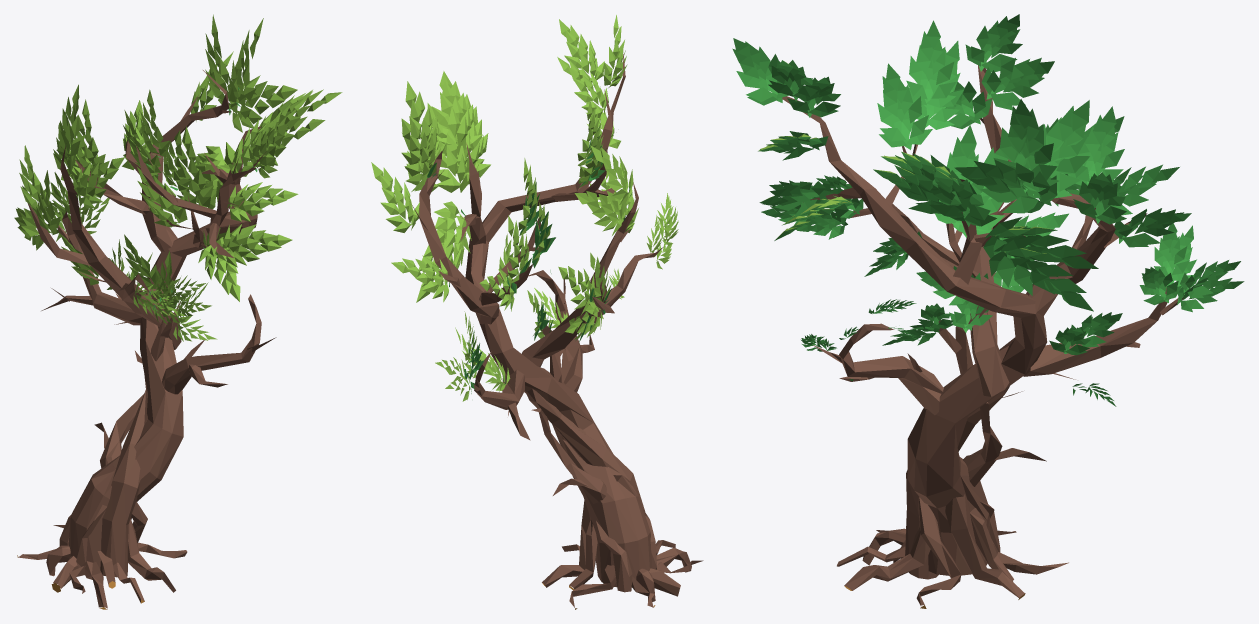
File: big-tree.glb
3 renders of one model, left to right at view 1: azimuth 30°, elevation 25°; view 2: azimuth 150°, elevation 25°; view 3: azimuth 270°, elevation 25°, orthographic. The views are drawn at different scales.
Visible parts, largest first — view 1: group1406566609; view 2: group1406566609; view 3: group1406566609.
Boxes of the visible parts, x1,y1,x2,y2 form: group1406566609: (14,14,342,609); group1406566609: (371,15,703,609); group1406566609: (732,14,1244,608).
Bounding box in the file's own units: 1.35 × 2.38 × 1.83.
